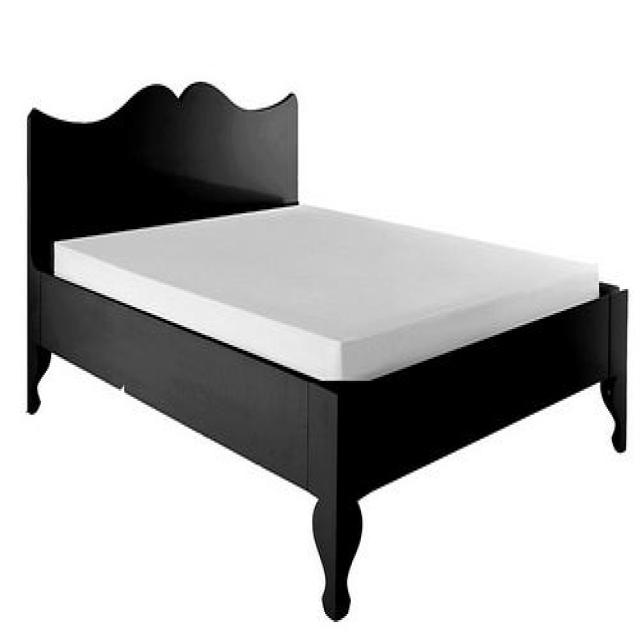bed: (27, 80, 627, 623)
